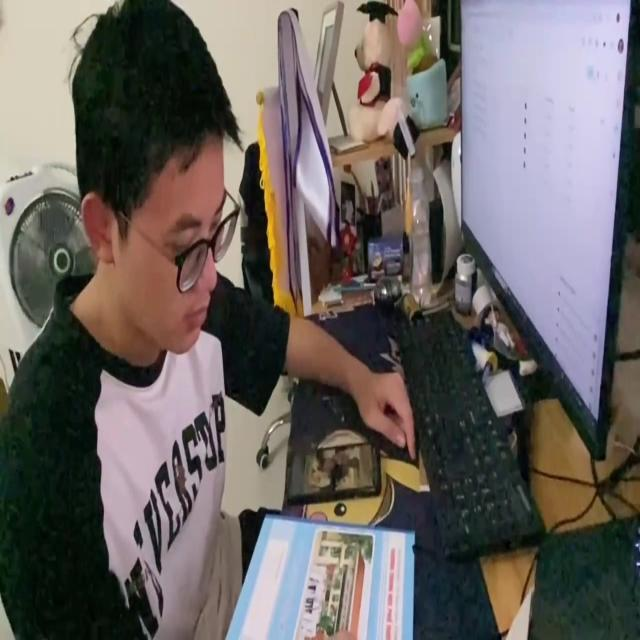book: (223, 511, 415, 640)
laptop: (455, 0, 640, 469)
phone: (281, 438, 382, 502)
student: (0, 0, 416, 640)
